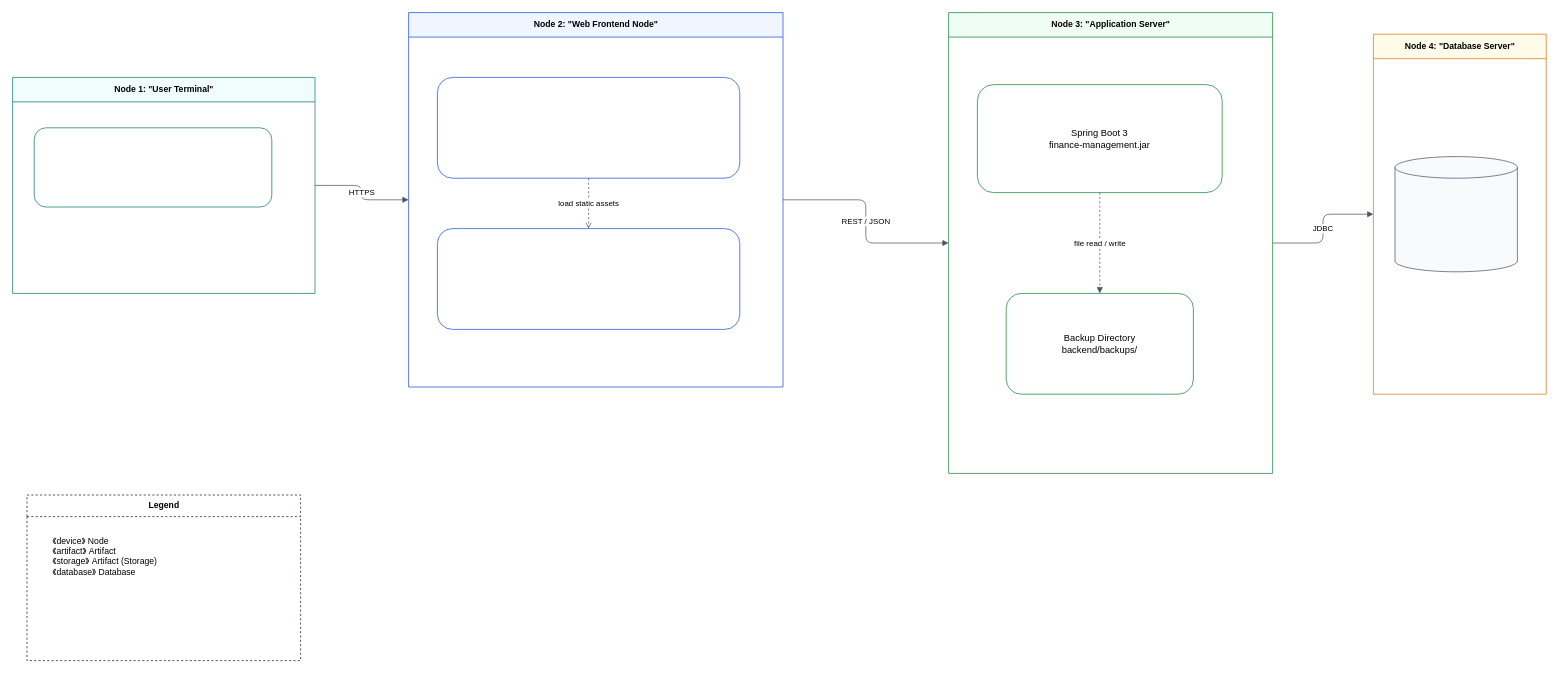
Some shapes in this 1559 by 673 pixel diagram are drawn without their labels. Each missing label, with the centre of its shape:
"Administrator / Finance Clerk Chrome / Edge" goes at point 152,167.
"MySQL 8 finance_management_system" goes at point 1455,214.
"Static Resource Cache HTML / JS / CSS" goes at point 588,127.
"Vue 3 Frontend App Vite build output" goes at point 588,278.
